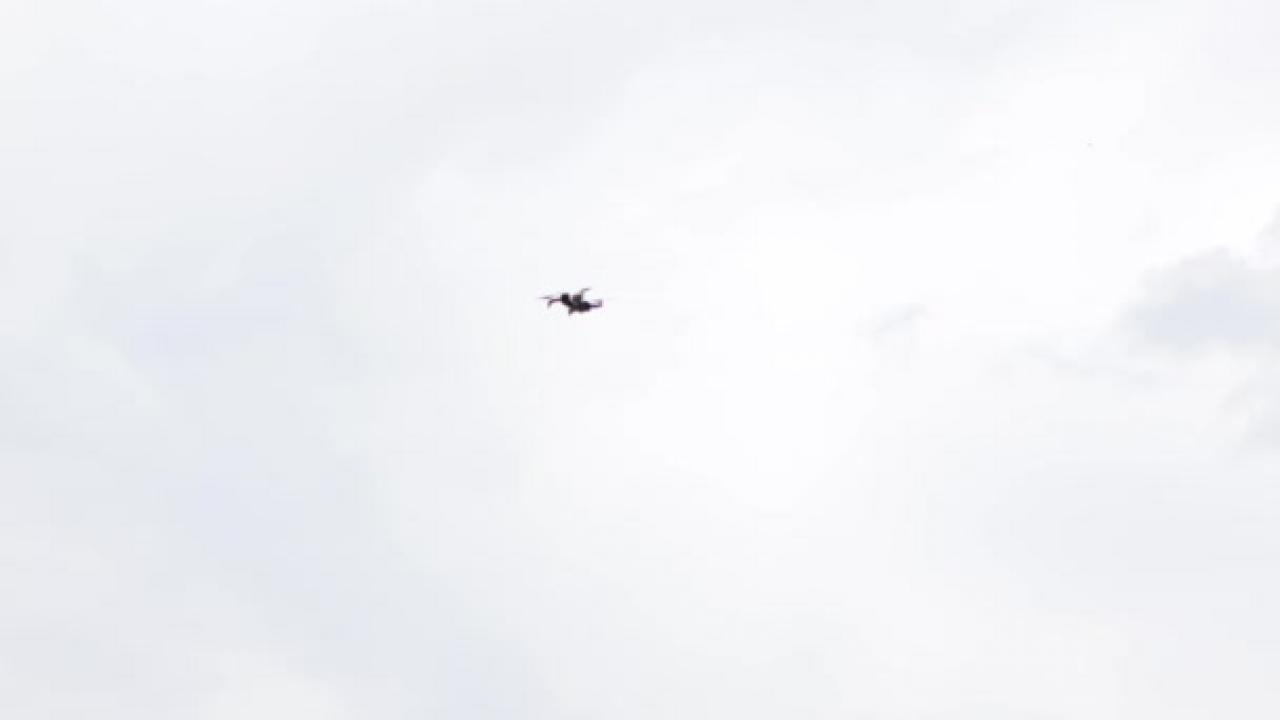Drone: (533, 278, 614, 330)
